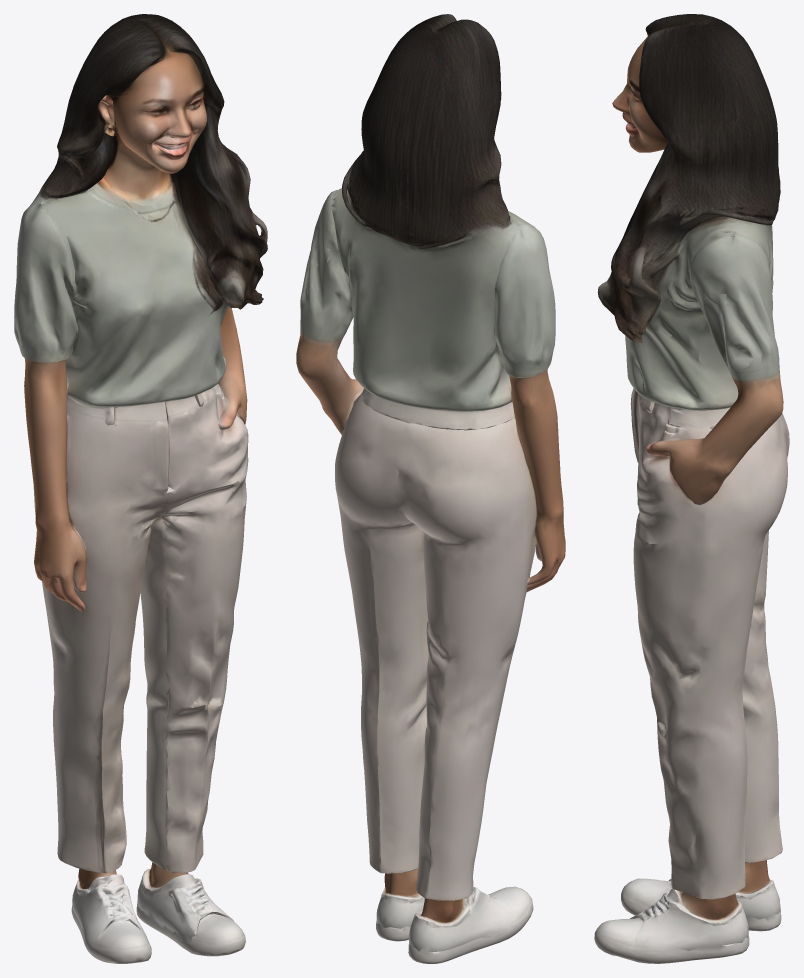
Rendered from person_03.glb.
3 views of the same model, side by side, from view 1: azimuth 30°, elevation 25°; view 2: azimuth 150°, elevation 25°; view 3: azimuth 270°, elevation 25° (orthographic).
Parts seen in each view (by area): view 1: Mesh; view 2: Mesh; view 3: Mesh.
Part boxes in pixels (bbox=[...]): Mesh: bbox=[14, 14, 267, 963]; Mesh: bbox=[296, 14, 565, 963]; Mesh: bbox=[594, 14, 789, 963].
Bounding box in the file's own units: 0.5054 × 1.9 × 0.3673.
1 material, 1 textured.
